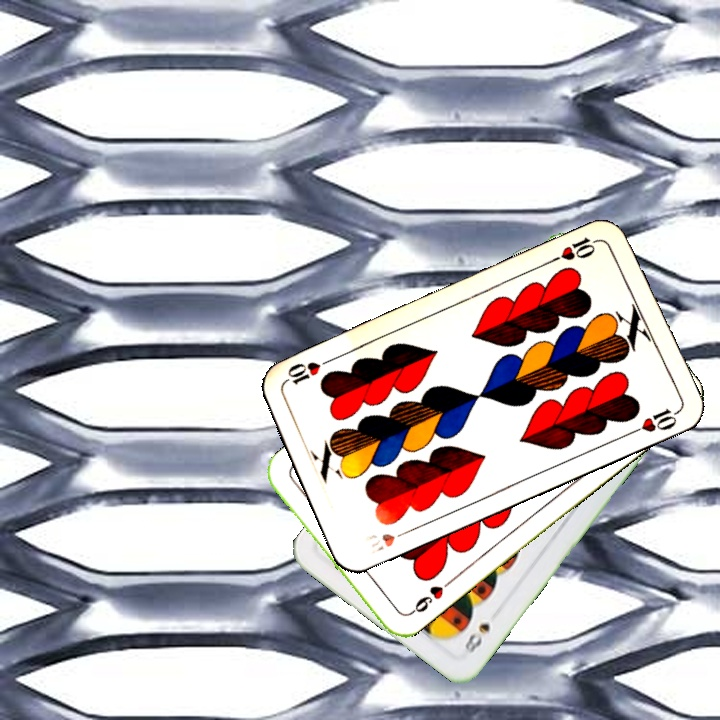H10: (547, 232, 604, 265), (361, 525, 414, 557)
H9: (404, 576, 455, 618)
S8: (460, 618, 493, 660)
